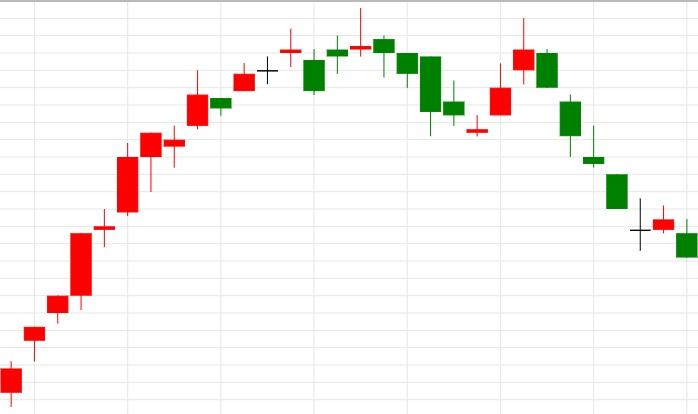three_white_soldiers_rise: (349, 7, 536, 137)
